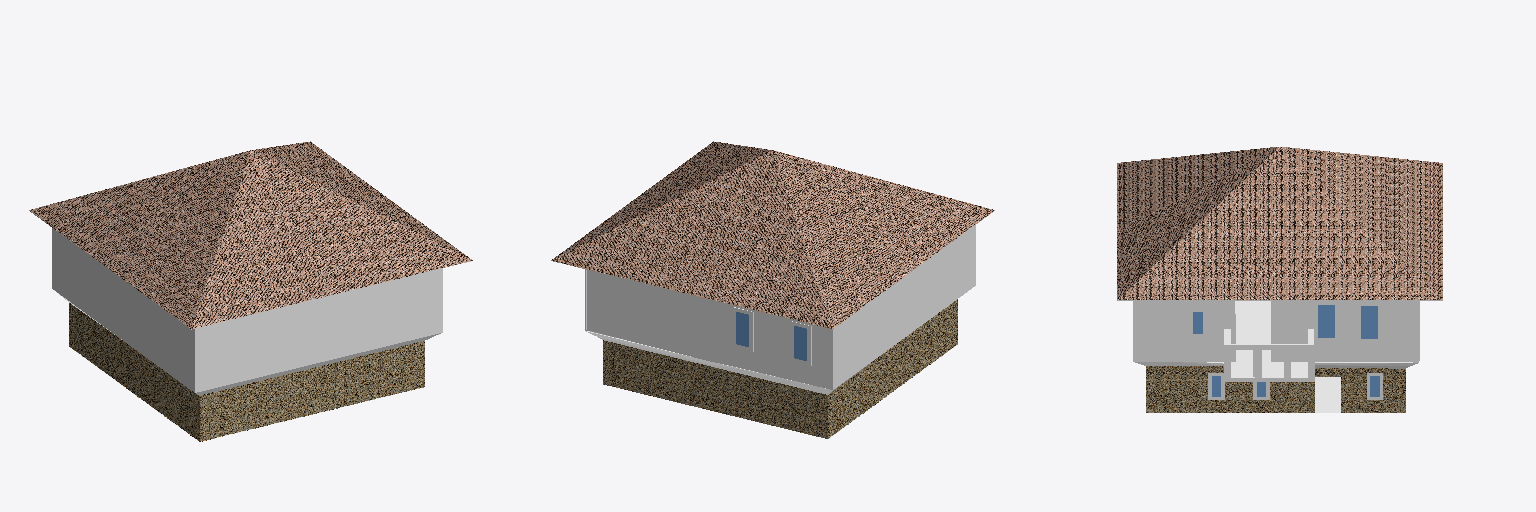
3 renders of one model, left to right at view 1: azimuth 30°, elevation 25°; view 2: azimuth 150°, elevation 25°; view 3: azimuth 270°, elevation 25°, orthographic.
Visible parts, largest first — view 1: House2; view 2: House2; view 3: House2.
Boxes of the visible parts, x1,y1,x2,y2 form: House2: [29, 141, 472, 441]; House2: [551, 141, 994, 438]; House2: [1117, 147, 1442, 412].
Size of the model in its own units: 25.9 by 18.15 by 25.
Materials: 7 (2 with a texture image).